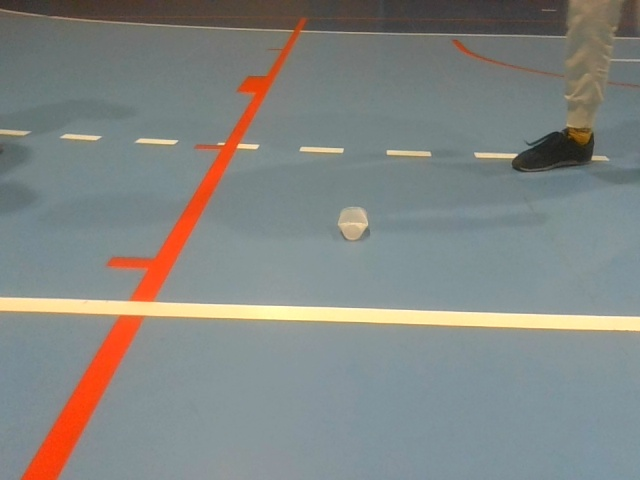plasticcup: (336, 205, 370, 241)
